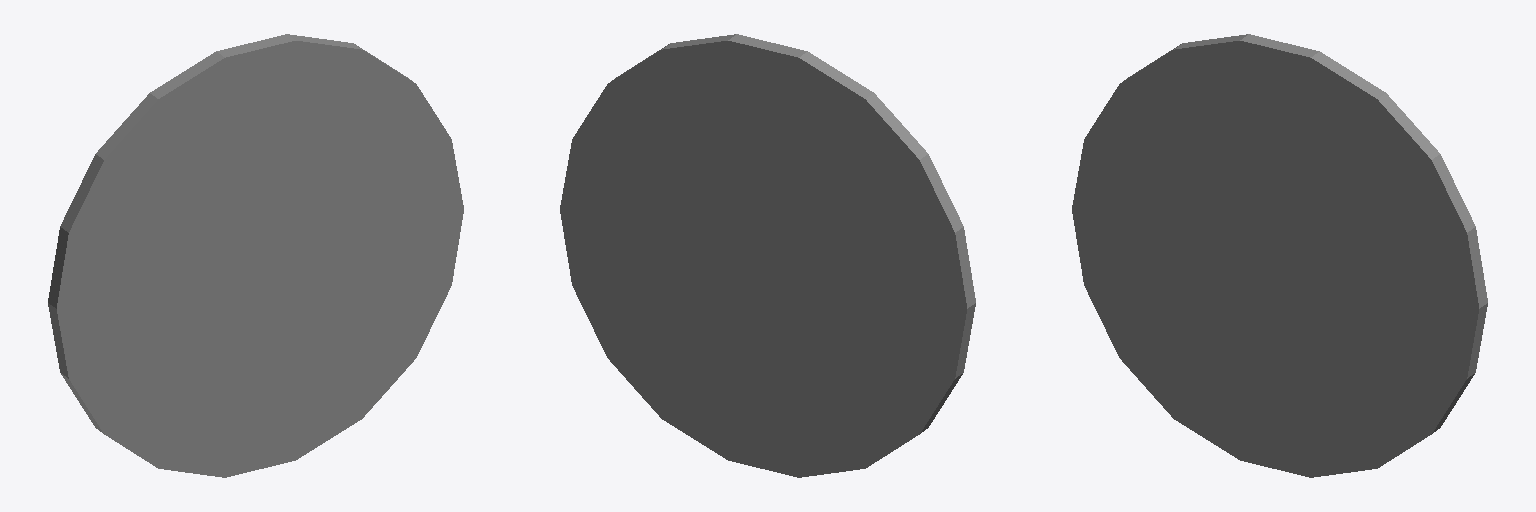
File: Coin.obj
3 views of the same model, side by side, from view 1: azimuth 30°, elevation 25°; view 2: azimuth 150°, elevation 25°; view 3: azimuth 330°, elevation 25° (orthographic).
Parts seen in each view (by area): view 1: Cylinder001; view 2: Cylinder001; view 3: Cylinder001.
Boxes of the visible parts, box(x1,y1,x2,y2) form: Cylinder001: box(48, 34, 463, 477); Cylinder001: box(560, 34, 975, 477); Cylinder001: box(1072, 34, 1487, 477).
Size of the model in its own units: 16.68 by 16.43 by 0.6213.